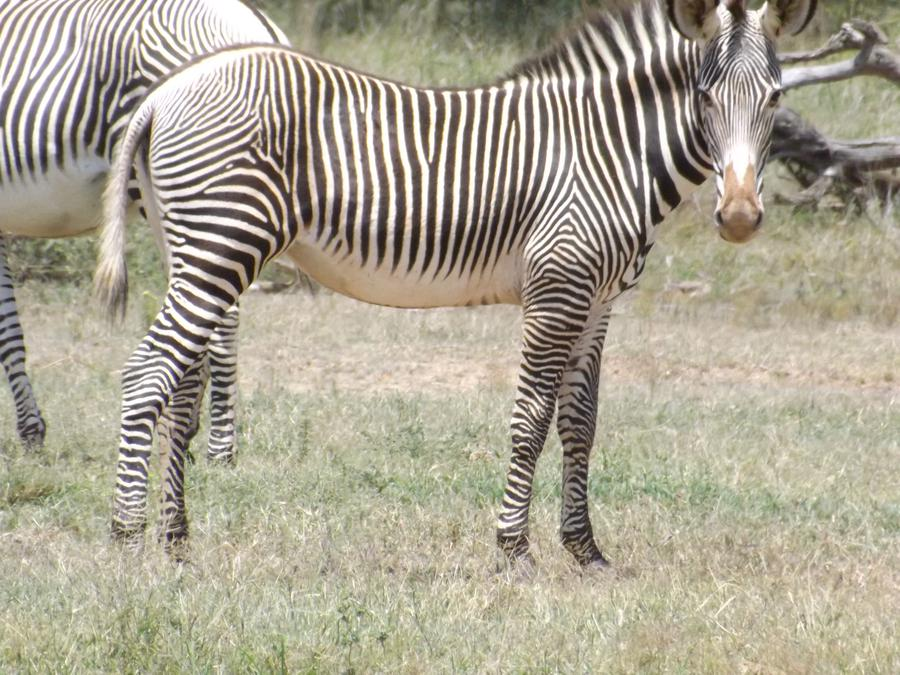zebra_grevys: (139, 31, 616, 298)
